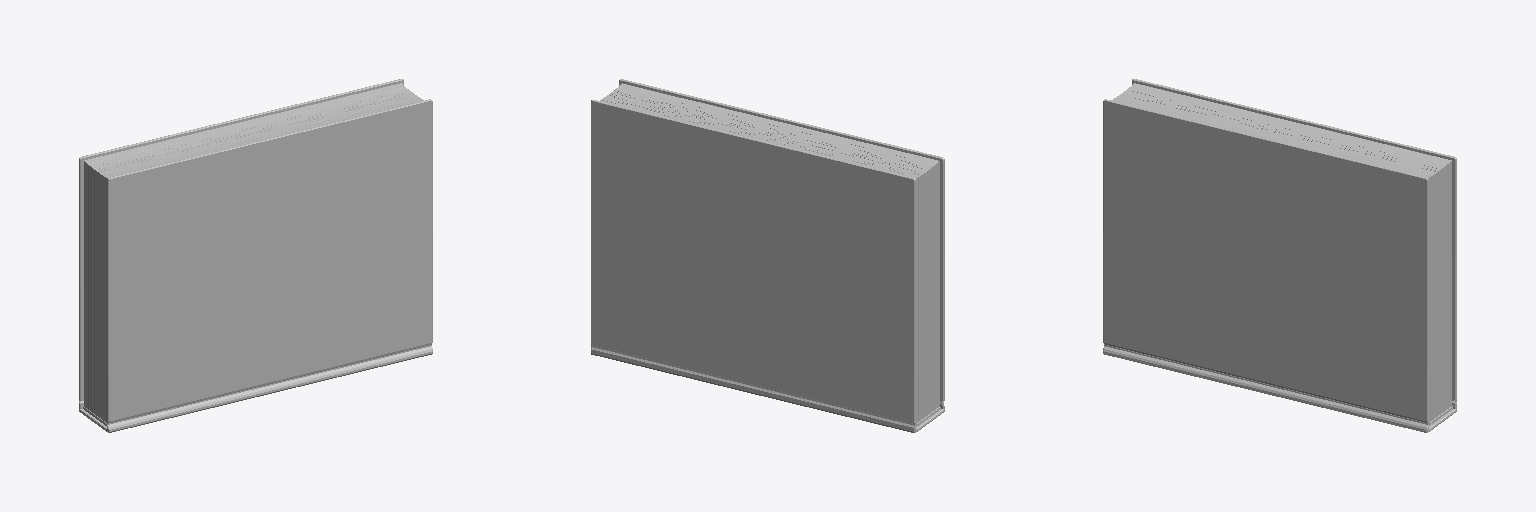
The model's file is book_a.obj.
The picture shows the model from 3 angles: view 1: azimuth 30°, elevation 25°; view 2: azimuth 150°, elevation 25°; view 3: azimuth 330°, elevation 25°; orthographic projection.
Parts seen in each view (by area): view 1: book; view 2: book; view 3: book.
Boxes of the visible parts, x1=… form: book: x1=79, y1=79, x2=432, y2=432; book: x1=591, y1=79, x2=944, y2=432; book: x1=1103, y1=79, x2=1456, y2=432.
Bounding box in the file's own units: 87.21 × 65.39 × 14.15.